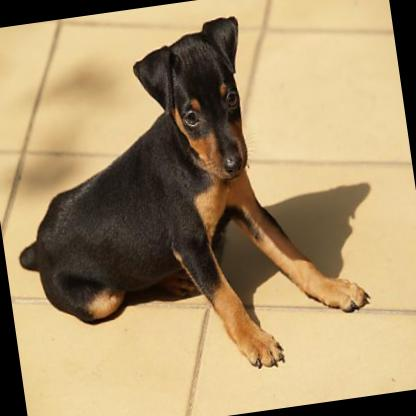miniature_pinscher: (0, 0, 379, 400)
